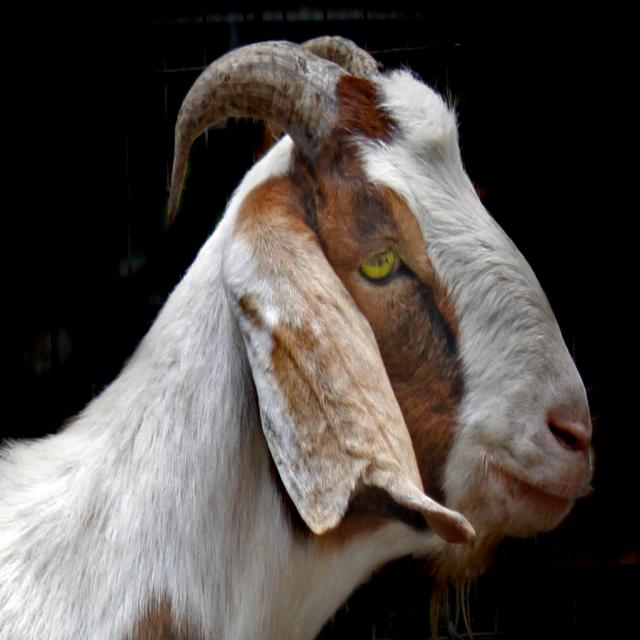Goat: (0, 39, 594, 639)
